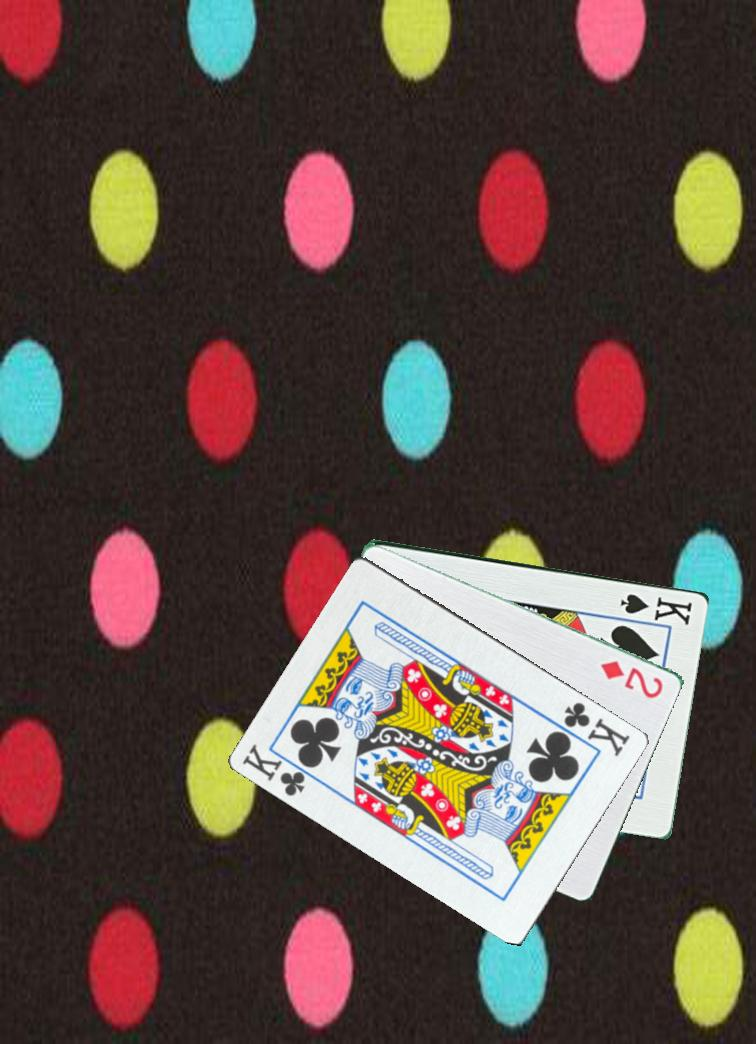2d: (597, 656, 675, 707)
kc: (560, 698, 637, 760), (239, 740, 309, 801)
ks: (617, 589, 696, 627)
